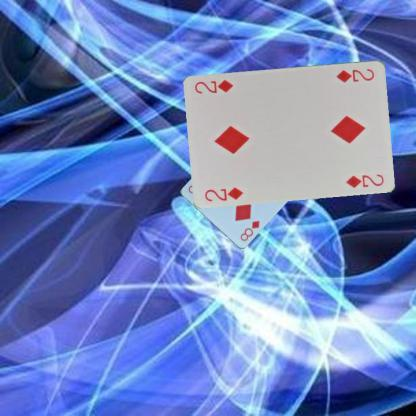2d: (334, 66, 376, 84), (203, 184, 245, 202)
8d: (238, 217, 260, 242)
